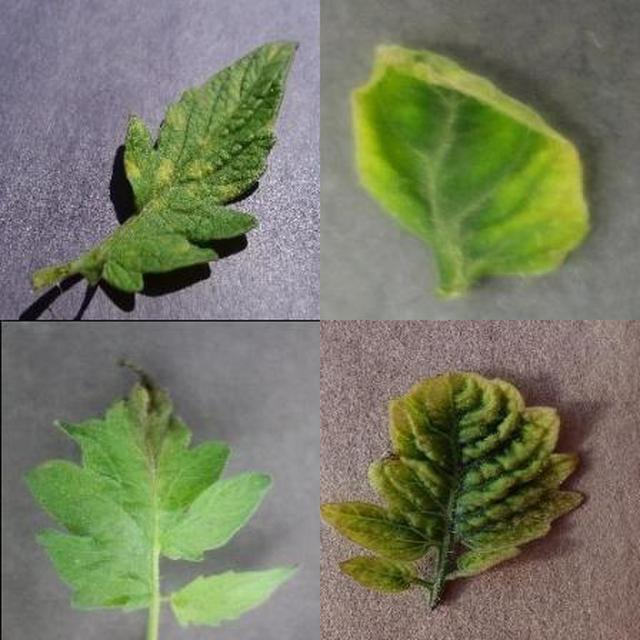Leaf Mold: (191, 90, 640, 640)
